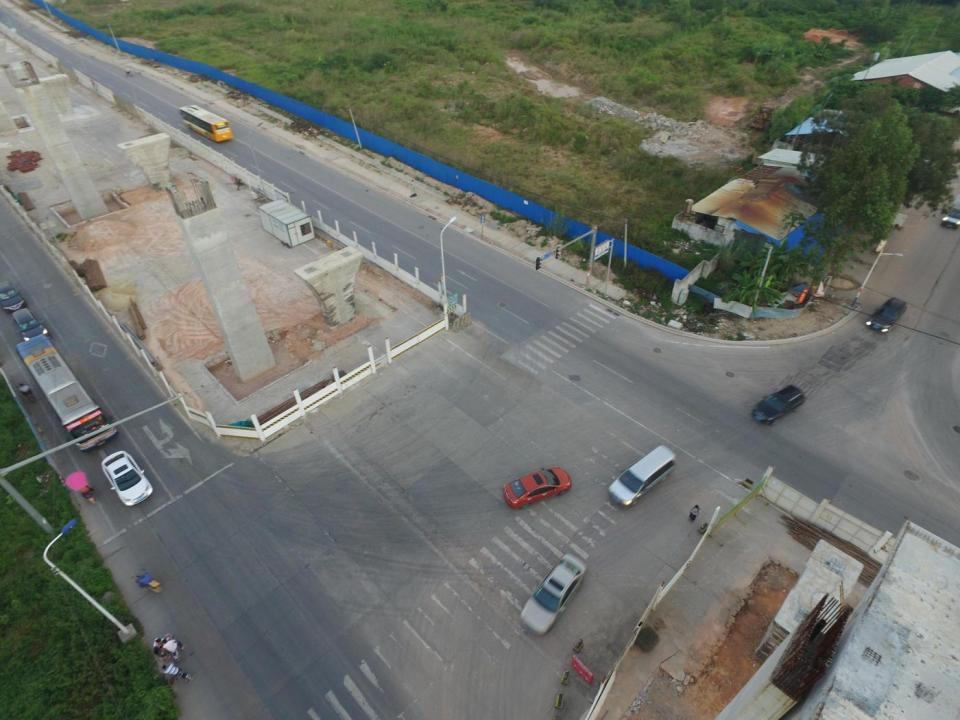bus: (16, 332, 114, 452), (178, 104, 235, 144)
car: (521, 555, 586, 638), (500, 466, 572, 512), (104, 453, 150, 507), (753, 386, 806, 427), (869, 297, 907, 333), (12, 309, 48, 344), (939, 190, 960, 234)
van: (610, 446, 676, 505), (0, 279, 25, 314)
